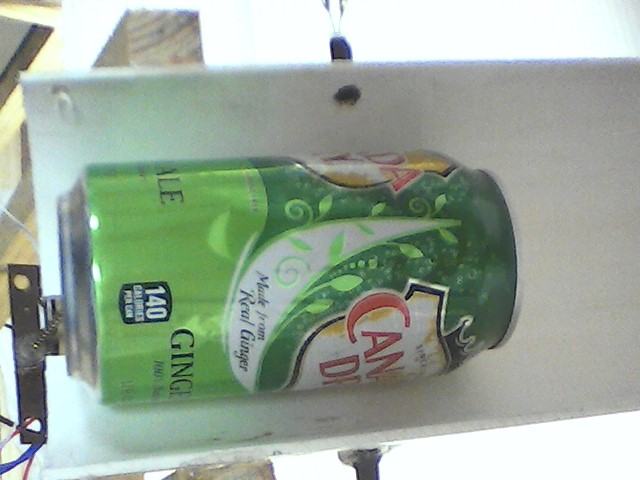lata: (53, 148, 527, 407)
